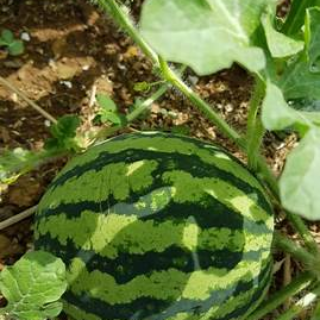dua_hau: (26, 129, 278, 319)
